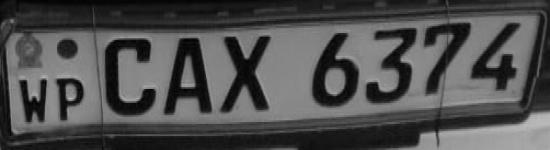3: (364, 21, 419, 107)
4: (470, 19, 527, 103)
6: (300, 24, 363, 112)
7: (422, 16, 475, 100)
A: (161, 32, 215, 123)
C: (101, 30, 161, 122)
P: (55, 76, 89, 125)
W: (17, 74, 52, 130)
X: (215, 33, 279, 121)
